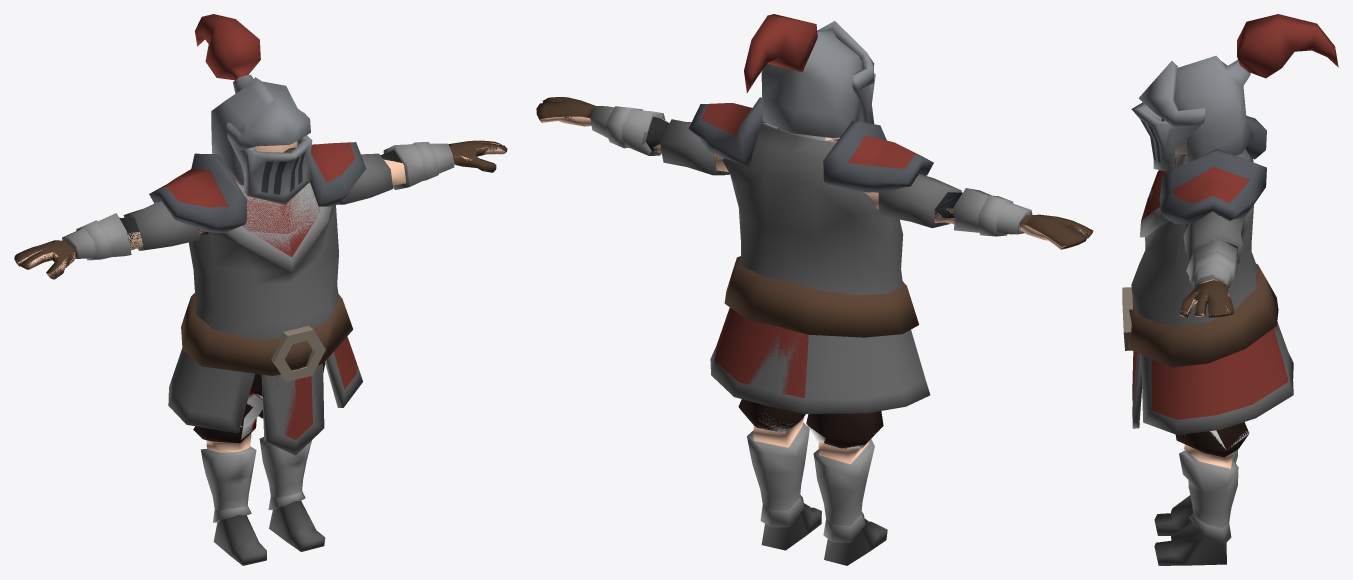
File: knight.fbx
The picture shows the model from 3 angles, left to right: view 1: azimuth 30°, elevation 25°; view 2: azimuth 150°, elevation 25°; view 3: azimuth 270°, elevation 25°; orthographic projection. The views are drawn at different scales.
Visible parts, largest first — view 1: knight_1, knight_2, knight_3; view 2: knight_2, knight_1, knight_3; view 3: knight_1, knight_3, knight_2.
Boxes of the visible parts, bbox=[...] form: knight_1: bbox=[66, 14, 438, 450]; knight_2: bbox=[14, 14, 507, 455]; knight_3: bbox=[16, 14, 506, 565]; knight_2: bbox=[536, 14, 1093, 464]; knight_1: bbox=[606, 14, 1027, 413]; knight_3: bbox=[539, 14, 1088, 565]; knight_1: bbox=[1122, 14, 1338, 434]; knight_3: bbox=[1132, 14, 1337, 565]; knight_2: bbox=[1135, 17, 1337, 467].
Size of the model in its own units: 289 by 281 by 105.
